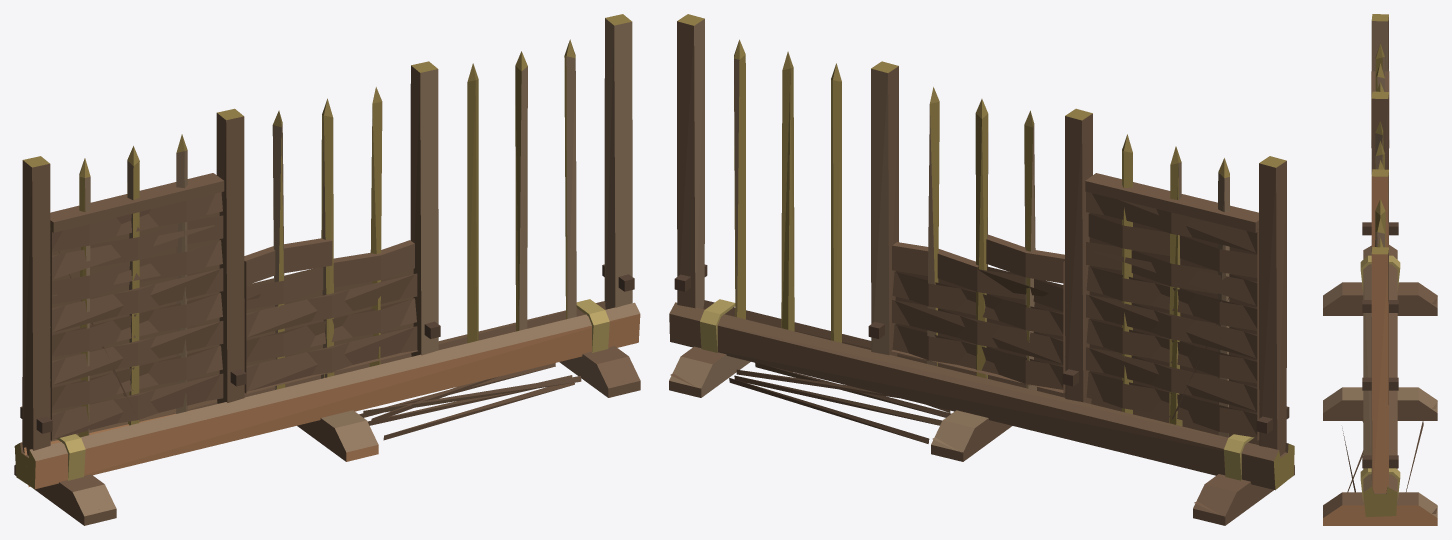
File: pf_weave_jig.glb
3 renders of one model, left to right at view 1: azimuth 30°, elevation 25°; view 2: azimuth 150°, elevation 25°; view 3: azimuth 270°, elevation 25°, orthographic. The views are drawn at different scales.
Parts seen in each view (by area): view 1: body, body__far; view 2: body, body__far; view 3: body.
Part boxes in pixels (bbox=[...]): body: bbox=[14, 14, 640, 525]; body__far: bbox=[24, 192, 623, 509]; body: bbox=[669, 14, 1294, 525]; body__far: bbox=[670, 193, 1259, 514]; body: bbox=[1323, 14, 1437, 525].
Size of the model in its own units: 1.76 by 0.953 by 0.3536.
